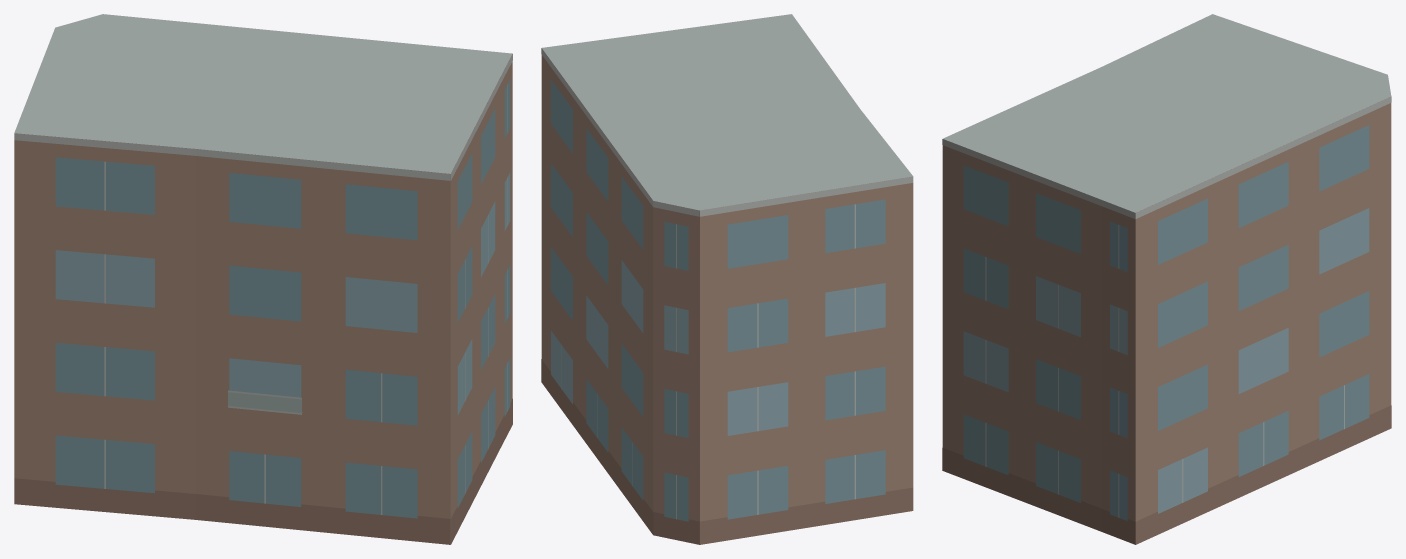
File: survey-upis-33026188.glb
3 renders of one model, left to right at view 1: azimuth 30°, elevation 25°; view 2: azimuth 150°, elevation 25°; view 3: azimuth 270°, elevation 25°, orthographic. The views are drawn at different scales.
Parts seen in each view (by area): view 1: survey-upis-33026188.tmp; view 2: survey-upis-33026188.tmp; view 3: survey-upis-33026188.tmp.
Part boxes in pixels (x1=…): survey-upis-33026188.tmp: x1=14, y1=14, x2=512, y2=544; survey-upis-33026188.tmp: x1=541, y1=14, x2=913, y2=544; survey-upis-33026188.tmp: x1=942, y1=14, x2=1391, y2=544.
Bounding box in the file's own units: 16.59 × 12.9 × 15.82.
